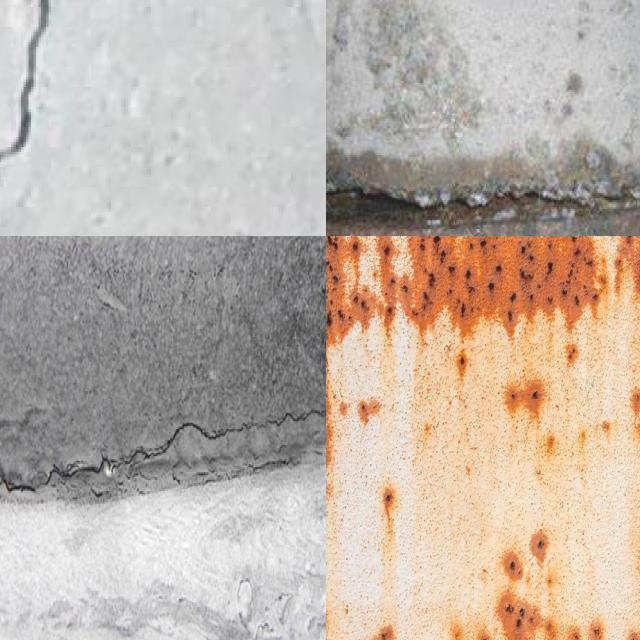Crack: (0, 412, 326, 499), (326, 170, 640, 229)
Pitting Corrosion: (397, 236, 599, 331), (326, 236, 406, 348), (505, 380, 544, 415), (530, 529, 548, 565), (326, 375, 333, 466), (357, 399, 381, 421)
